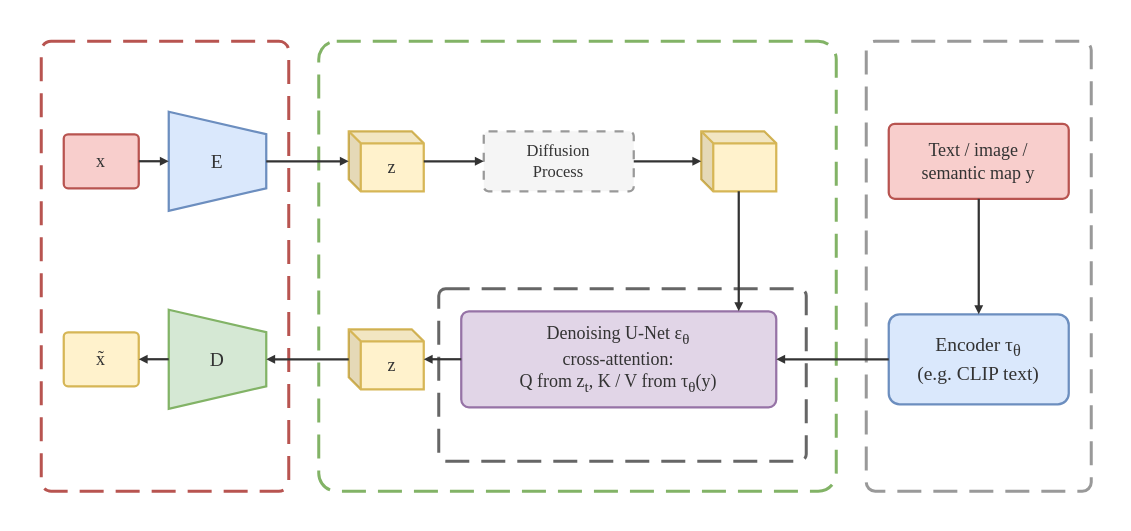
Image size: 1131x531. Some labels were removed from this diagram. The box of each missing label's shape, as (x1, y1, x2, y2) in pixels:
Conditioning: (864, 39, 1092, 492)
Latent Space: (316, 39, 837, 492)
Pixel Space: (39, 39, 290, 492)
z T: (699, 129, 777, 192)
× T: (436, 286, 807, 462)
